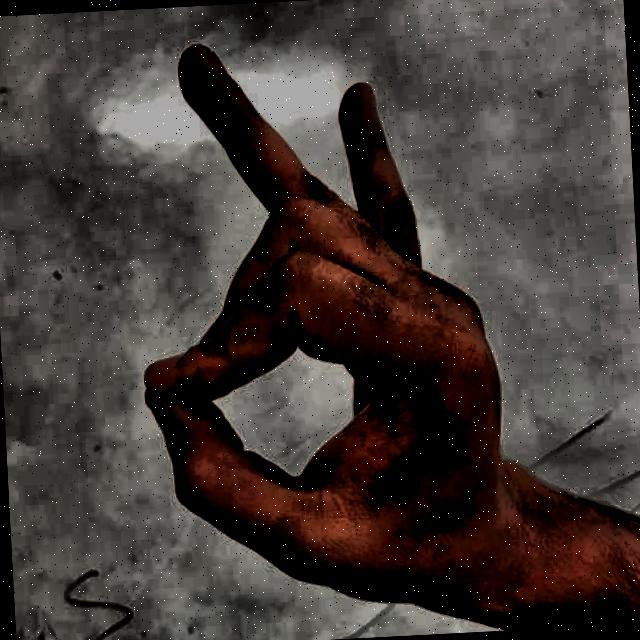Na: (76, 7, 550, 640)
